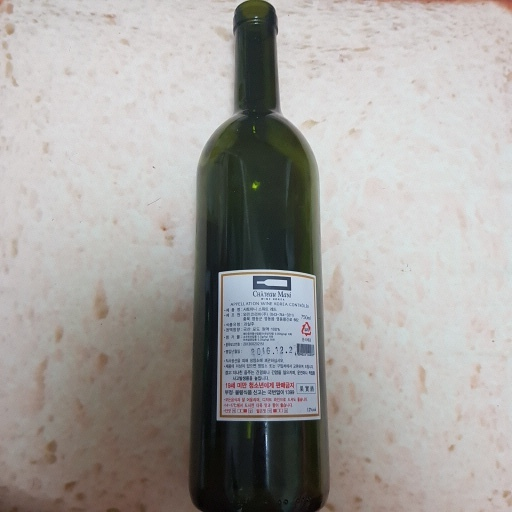Glass_2: (188, 2, 332, 512)
